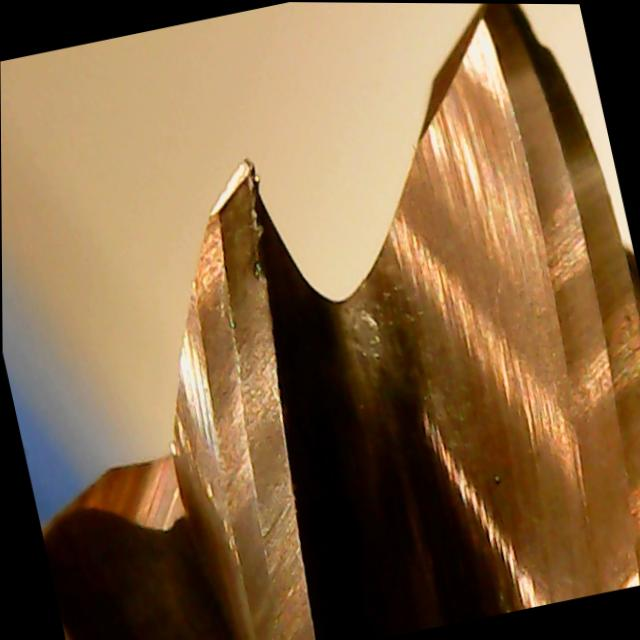Tool-wear-class-1: (136, 148, 338, 489)
